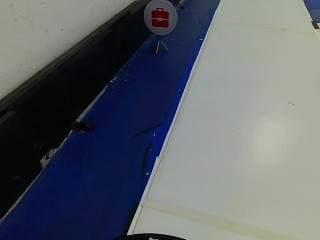company: (138, 3, 174, 35)
